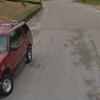Car: (2, 13, 35, 96)
